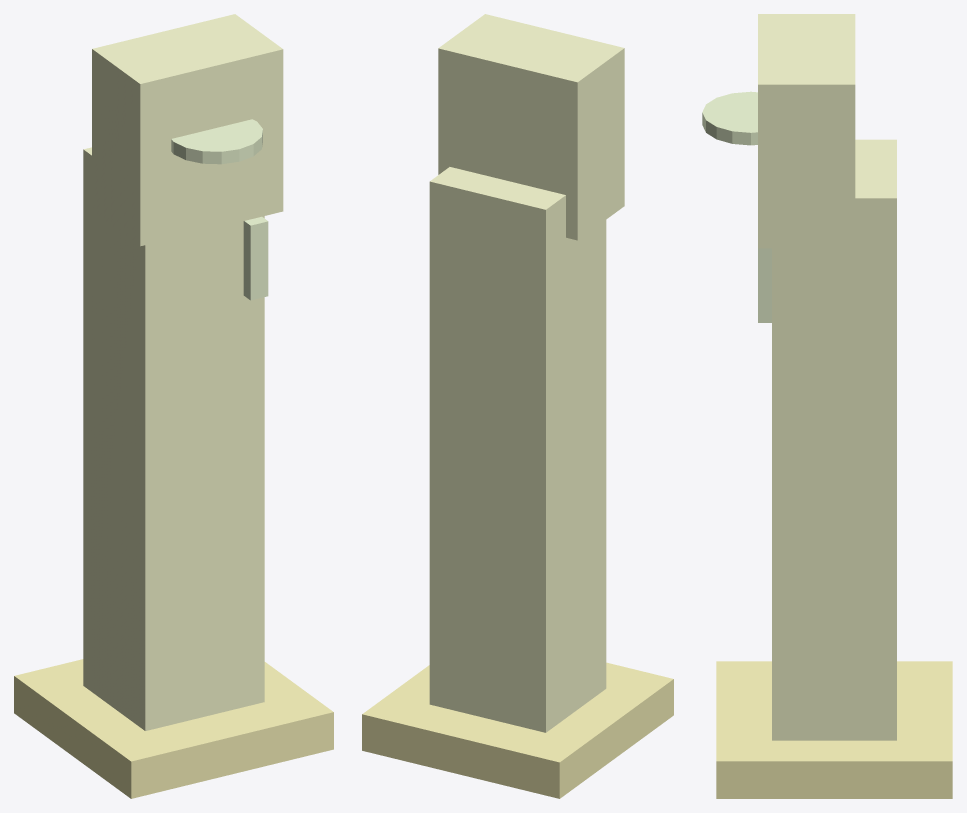
The model's file is furniture_signal_meter_pedestal.glb.
3 renders of one model, left to right at view 1: azimuth 30°, elevation 25°; view 2: azimuth 150°, elevation 25°; view 3: azimuth 270°, elevation 25°, orthographic. The views are drawn at different scales.
Visible parts, largest first — view 1: pedestal, meter_head, pad, meter_ring, service_handle; view 2: pedestal, meter_head, pad; view 3: pedestal, meter_head, pad, meter_ring, service_handle.
Boxes of the visible parts, box(x1,y1,x2,y2) form: pedestal: box(83, 147, 264, 730); meter_head: box(92, 14, 283, 246); pad: box(14, 659, 333, 798); meter_ring: box(171, 119, 262, 164); service_handle: box(243, 216, 268, 300); pedestal: box(429, 167, 606, 732); meter_head: box(438, 14, 624, 240); pad: box(362, 662, 673, 798); pedestal: box(772, 139, 896, 740); meter_head: box(758, 14, 855, 248); pad: box(716, 661, 952, 798); meter_ring: box(702, 91, 757, 145); service_handle: box(758, 248, 771, 322).
Size of the model in its own units: 0.34 by 1.11 by 0.36.
